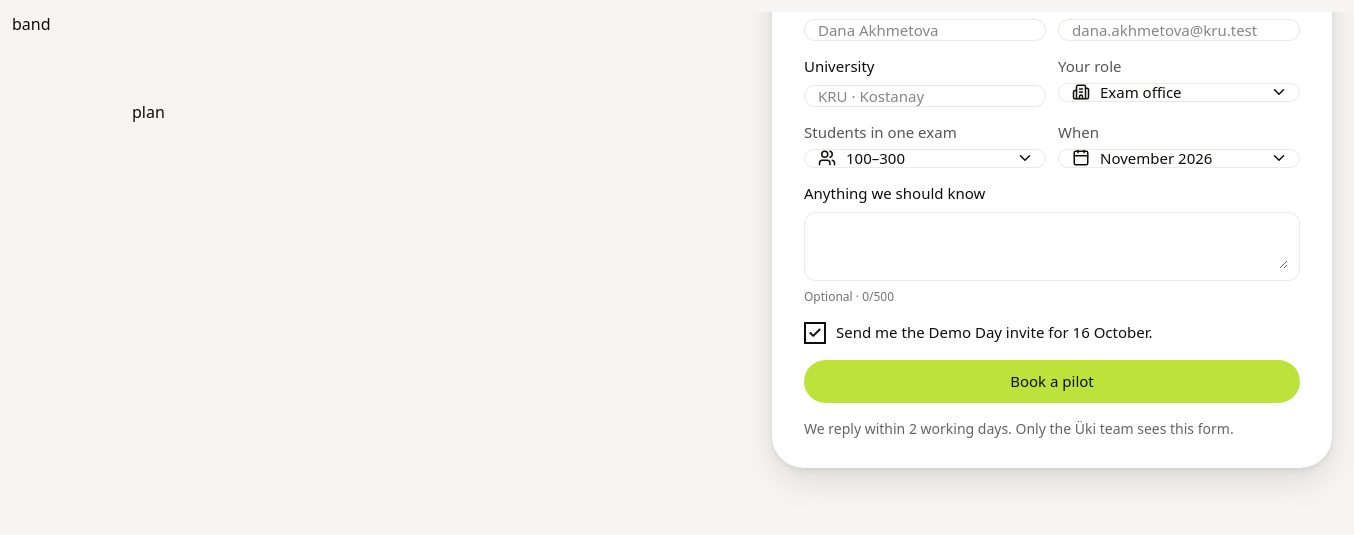
/pilot › shows the refusal on the form's error line and keeps the values
This screenshot has width=1354, height=535.
Click the button "Book a pilot". click: (1052, 382)
box: [804, 360, 1300, 404]
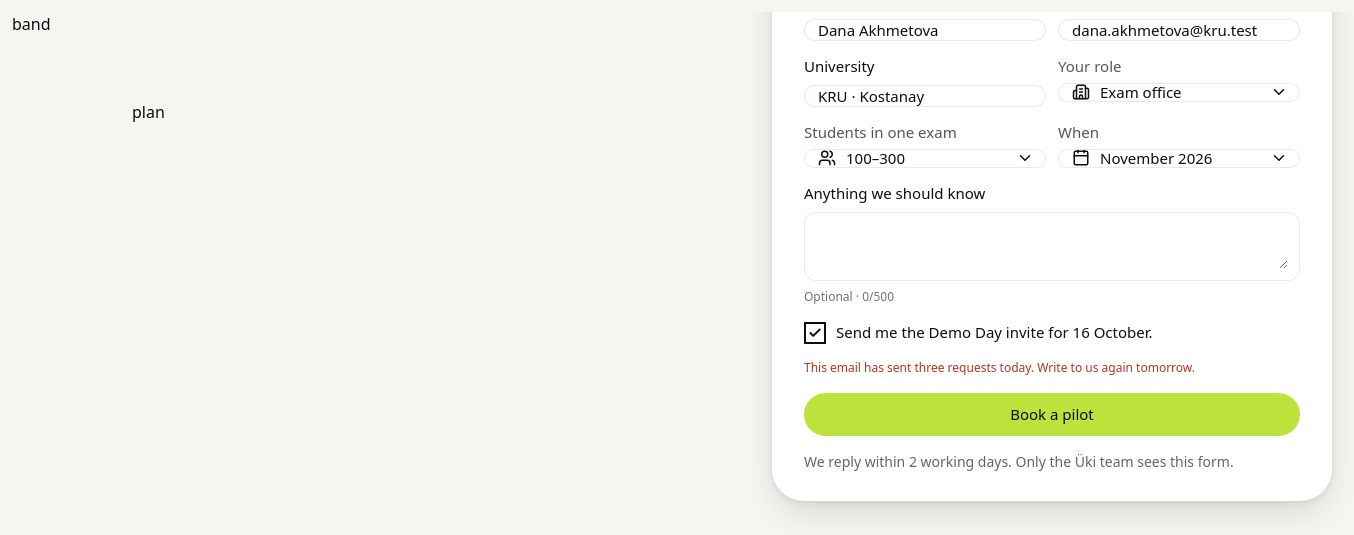
Expected: the message reads "This email has sent three requests today. Write to us again tomorrow.", [804, 359, 1195, 376]
Expected: the field labelled "Full name" holds "Dana Akhmetova", [818, 19, 1034, 41]
